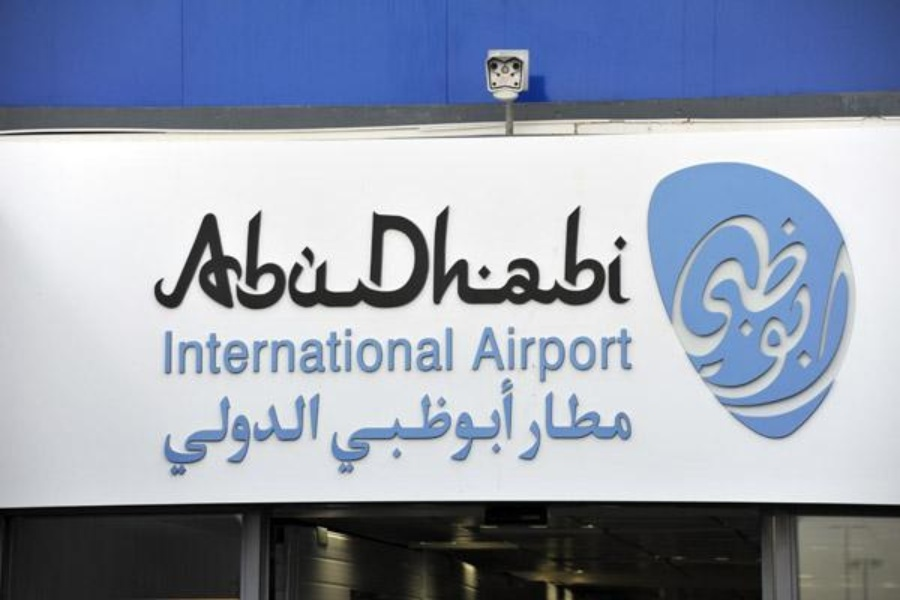text: (673, 211, 688, 424), (689, 211, 704, 424), (705, 211, 720, 424), (721, 211, 736, 424), (737, 211, 752, 424), (753, 211, 768, 424), (769, 211, 784, 424), (785, 211, 800, 424), (801, 211, 816, 424), (817, 211, 832, 424), (833, 211, 848, 424), (849, 211, 864, 424), (659, 211, 672, 424), (161, 203, 176, 311), (177, 203, 192, 311), (193, 203, 208, 311), (209, 203, 224, 311), (225, 203, 240, 311), (241, 203, 256, 311), (257, 203, 272, 311), (273, 203, 288, 311), (289, 203, 304, 311), (305, 203, 320, 311), (321, 203, 336, 311), (337, 203, 352, 311), (353, 203, 368, 311), (369, 203, 384, 311), (385, 203, 400, 311), (401, 203, 416, 311), (417, 203, 432, 311), (433, 203, 448, 311), (449, 203, 464, 311), (465, 203, 480, 311), (481, 203, 496, 311), (497, 203, 512, 311), (513, 203, 528, 311), (529, 203, 544, 311), (545, 203, 560, 311), (561, 203, 576, 311), (577, 203, 592, 311), (593, 203, 608, 311), (609, 203, 624, 311), (337, 376, 352, 475), (353, 376, 368, 475), (369, 376, 384, 475), (385, 376, 400, 475), (401, 376, 416, 475), (417, 376, 432, 475), (433, 376, 448, 475), (449, 376, 464, 475), (465, 376, 480, 475), (481, 376, 496, 475), (497, 376, 512, 475), (177, 392, 192, 478), (193, 392, 208, 478), (209, 392, 224, 478), (225, 392, 240, 478), (241, 392, 256, 478), (257, 392, 272, 478), (273, 392, 288, 478), (289, 392, 304, 478), (305, 392, 320, 478), (529, 389, 544, 467), (545, 389, 560, 467), (561, 389, 576, 467), (577, 389, 592, 467), (593, 389, 608, 467), (609, 389, 624, 467), (625, 203, 634, 311), (481, 326, 496, 388), (497, 326, 512, 388), (513, 326, 528, 388), (529, 326, 544, 388), (545, 326, 560, 388), (561, 326, 576, 388), (577, 326, 592, 388), (593, 326, 608, 388), (609, 326, 624, 388), (177, 325, 192, 377), (193, 325, 208, 377), (209, 325, 224, 377), (225, 325, 240, 377), (241, 325, 256, 377), (257, 325, 272, 377), (273, 325, 288, 377), (289, 325, 304, 377), (305, 325, 320, 377), (321, 325, 336, 377), (337, 325, 352, 377), (353, 325, 368, 377), (369, 325, 384, 377), (385, 325, 400, 377), (401, 325, 416, 377), (417, 325, 432, 377), (433, 325, 448, 377), (167, 392, 176, 478), (625, 389, 634, 467), (163, 325, 176, 377), (154, 203, 160, 311), (865, 211, 868, 424), (625, 326, 635, 388), (513, 376, 517, 475), (449, 325, 455, 377), (476, 326, 480, 388), (334, 376, 336, 475), (321, 392, 322, 478), (527, 389, 528, 467)
